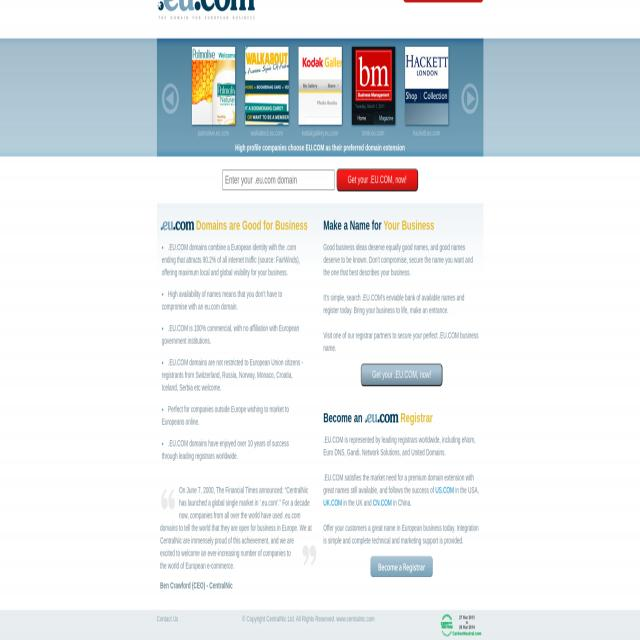button: (351, 46, 395, 126), (405, 47, 450, 125), (298, 47, 342, 125), (192, 47, 235, 125), (246, 46, 288, 125), (157, 0, 255, 19), (336, 169, 418, 191), (361, 364, 442, 386), (370, 556, 433, 577), (437, 612, 485, 638), (160, 484, 179, 516), (162, 83, 178, 114), (462, 83, 478, 114), (301, 540, 317, 570), (160, 220, 194, 230), (364, 413, 398, 423)
field: (222, 170, 334, 190)
